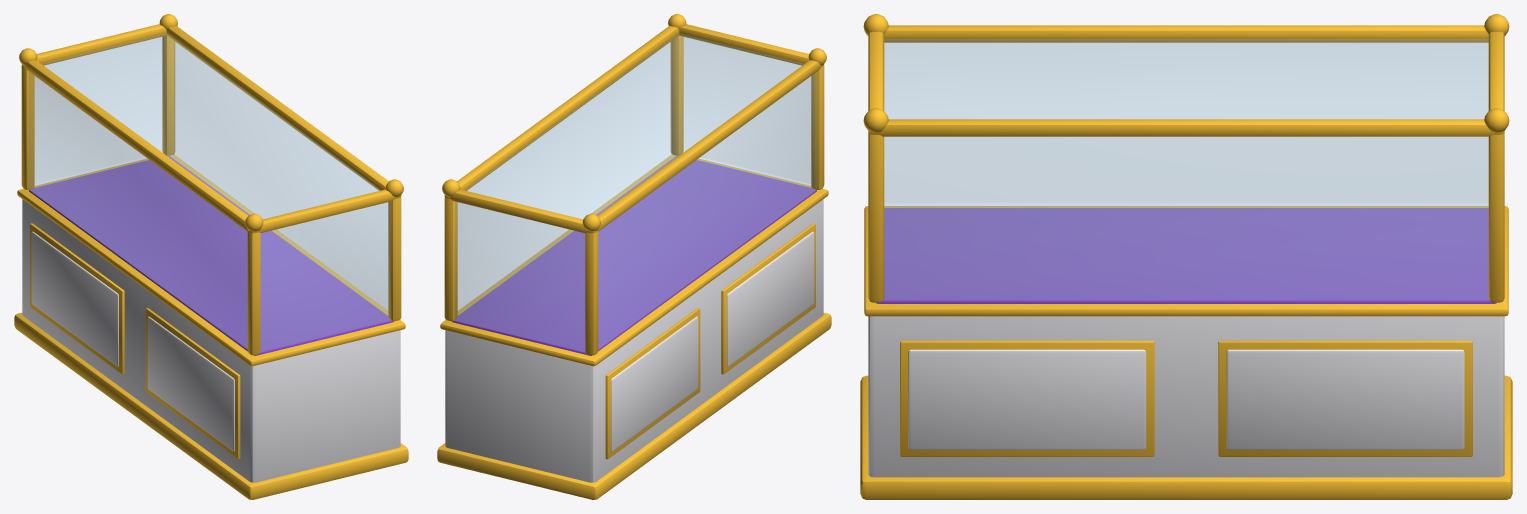
Rendered from PropDisplayCase.fbx.
3 views of the same model, side by side, from view 1: azimuth 30°, elevation 25°; view 2: azimuth 150°, elevation 25°; view 3: azimuth 270°, elevation 25° (orthographic). The views are drawn at different scales.
Parts seen in each view (by area): view 1: Glass, Marble, Gold, AccentCloth; view 2: Glass, Marble, Gold, AccentCloth; view 3: Glass, Marble, Gold, AccentCloth.
Part boxes in pixels (x1,y1,x2,y2): Glass: [29, 33, 390, 351]; Marble: [22, 199, 400, 482]; Gold: [14, 14, 408, 499]; AccentCloth: [29, 156, 393, 355]; Glass: [455, 33, 816, 351]; Marble: [445, 199, 823, 482]; Gold: [437, 14, 831, 499]; AccentCloth: [452, 156, 816, 355]; Glass: [883, 39, 1489, 299]; Marble: [868, 316, 1504, 477]; Gold: [860, 14, 1512, 499]; AccentCloth: [876, 208, 1496, 303].
Bounding box in the file's own units: 320 × 536 × 820.
